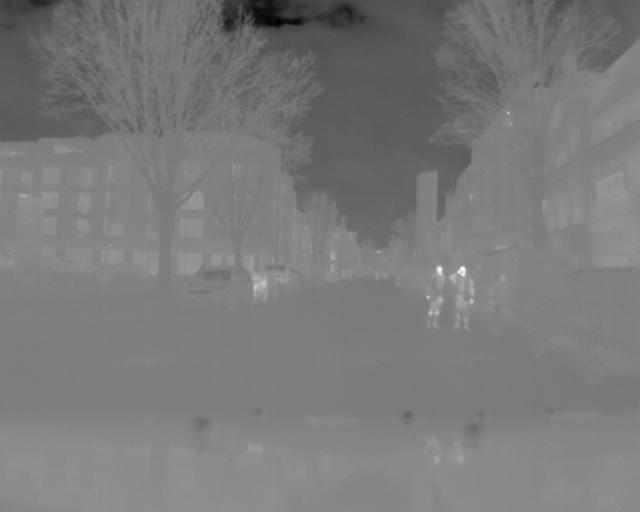car: (522, 272, 640, 384), (180, 269, 257, 323), (262, 261, 305, 297)
person: (422, 261, 448, 332), (453, 262, 477, 332), (492, 271, 512, 324)
